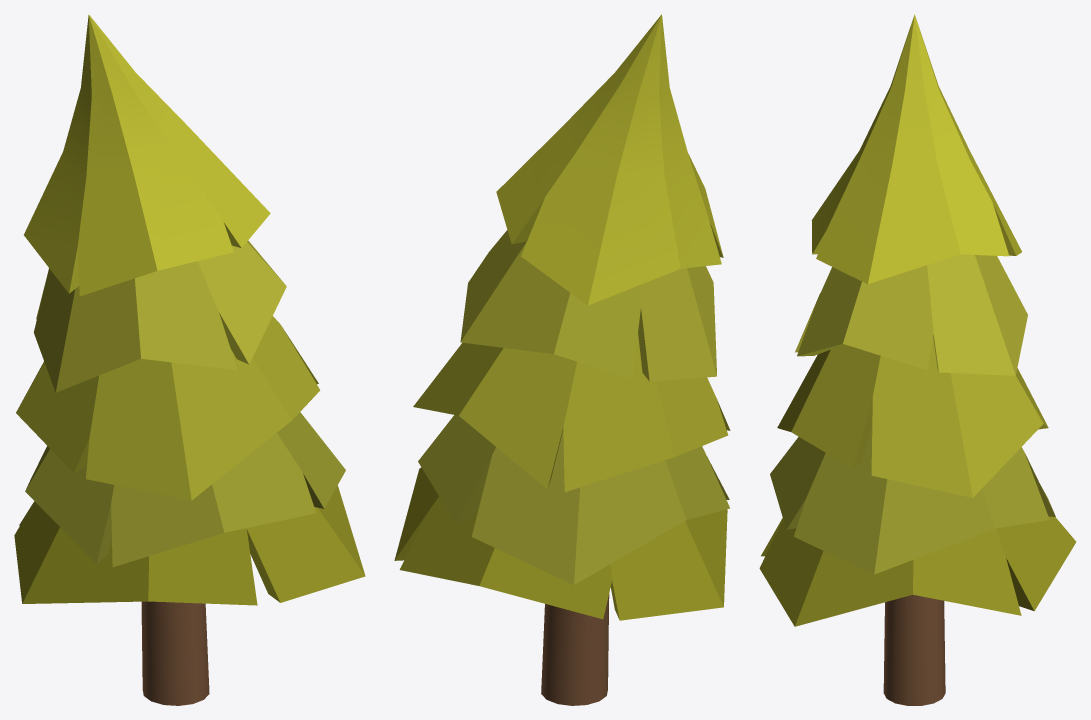
Rendered from Spruce_Yellow_2.fbx.
The picture shows the model from 3 angles, left to right: view 1: azimuth 30°, elevation 25°; view 2: azimuth 150°, elevation 25°; view 3: azimuth 270°, elevation 25°; orthographic projection. The views are drawn at different scales.
Parts seen in each view (by area): view 1: Cylinder.358, Cylinder.359, Cylinder.360, Cylinder.362, Cylinder.361, Cylinder.363; view 2: Cylinder.358, Cylinder.359, Cylinder.361, Cylinder.360, Cylinder.362, Cylinder.363; view 3: Cylinder.358, Cylinder.359, Cylinder.361, Cylinder.360, Cylinder.362, Cylinder.363.
Boxes of the visible parts, bbox=[...] form: Cylinder.358: bbox=[24, 14, 270, 296]; Cylinder.359: bbox=[16, 316, 320, 500]; Cylinder.360: bbox=[33, 240, 286, 392]; Cylinder.362: bbox=[14, 485, 365, 605]; Cylinder.361: bbox=[25, 412, 345, 566]; Cylinder.363: bbox=[141, 601, 209, 705]; Cylinder.358: bbox=[496, 14, 723, 305]; Cylinder.359: bbox=[413, 334, 730, 492]; Cylinder.361: bbox=[418, 415, 729, 584]; Cylinder.360: bbox=[460, 230, 716, 381]; Cylinder.362: bbox=[394, 467, 727, 620]; Cylinder.363: bbox=[541, 594, 609, 705]; Cylinder.358: bbox=[811, 14, 1021, 284]; Cylinder.359: bbox=[777, 337, 1048, 497]; Cylinder.361: bbox=[770, 425, 1055, 574]; Cylinder.360: bbox=[795, 254, 1027, 375]; Cylinder.362: bbox=[759, 516, 1076, 626]; Cylinder.363: bbox=[883, 595, 945, 705].
Size of the model in its own units: 262 by 568 by 255.
